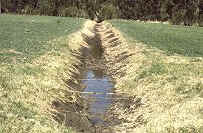water: (61, 61, 137, 128)
